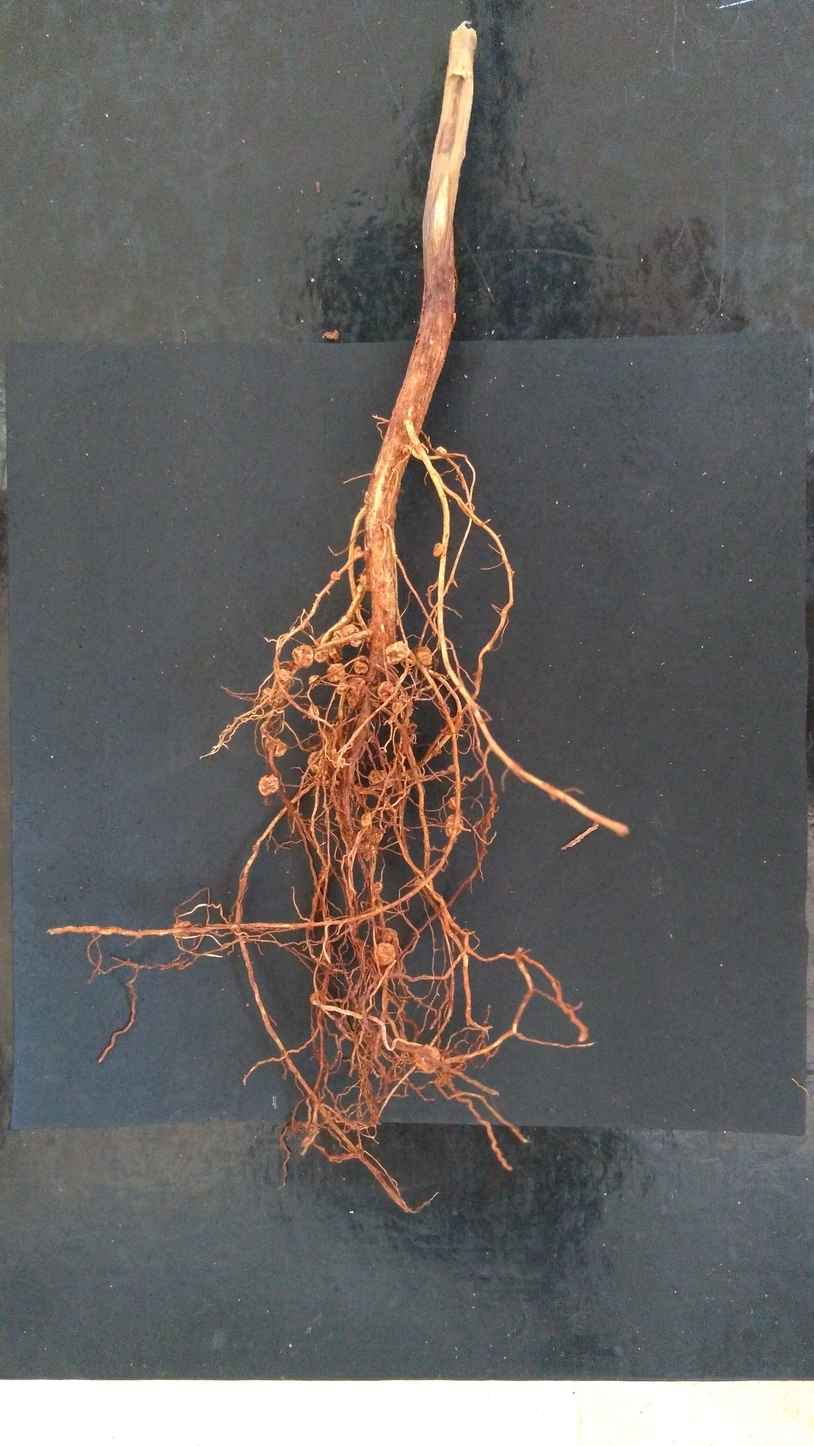nodule: (414, 1044, 441, 1074), (346, 677, 366, 709), (342, 624, 364, 647), (374, 942, 395, 966), (292, 645, 313, 668), (386, 641, 407, 664), (308, 751, 329, 774), (368, 770, 392, 790), (258, 775, 279, 795), (265, 737, 287, 756), (445, 814, 463, 837), (327, 663, 347, 682), (364, 825, 383, 844), (378, 681, 396, 701), (331, 629, 349, 648), (415, 646, 432, 666), (381, 928, 398, 946), (173, 920, 191, 937), (328, 643, 343, 662), (331, 748, 345, 768), (400, 697, 413, 718), (362, 841, 375, 862), (262, 687, 276, 706), (435, 1073, 451, 1089), (446, 717, 462, 733), (360, 568, 370, 592), (397, 722, 417, 734), (310, 990, 325, 1005), (314, 648, 328, 662), (354, 660, 368, 674), (366, 617, 372, 649), (308, 704, 319, 719), (435, 446, 447, 459), (278, 669, 291, 681), (433, 543, 444, 557), (337, 680, 348, 694), (392, 701, 403, 714), (361, 811, 371, 825), (448, 796, 458, 809), (357, 790, 367, 803), (309, 675, 319, 686), (364, 491, 372, 504), (373, 882, 382, 893), (331, 571, 340, 580), (354, 546, 362, 554), (414, 879, 422, 887), (432, 747, 439, 756), (448, 765, 456, 772), (341, 615, 348, 622), (402, 447, 408, 455), (372, 678, 378, 686), (357, 585, 363, 593), (444, 844, 449, 853), (383, 523, 388, 531), (440, 770, 446, 775)
